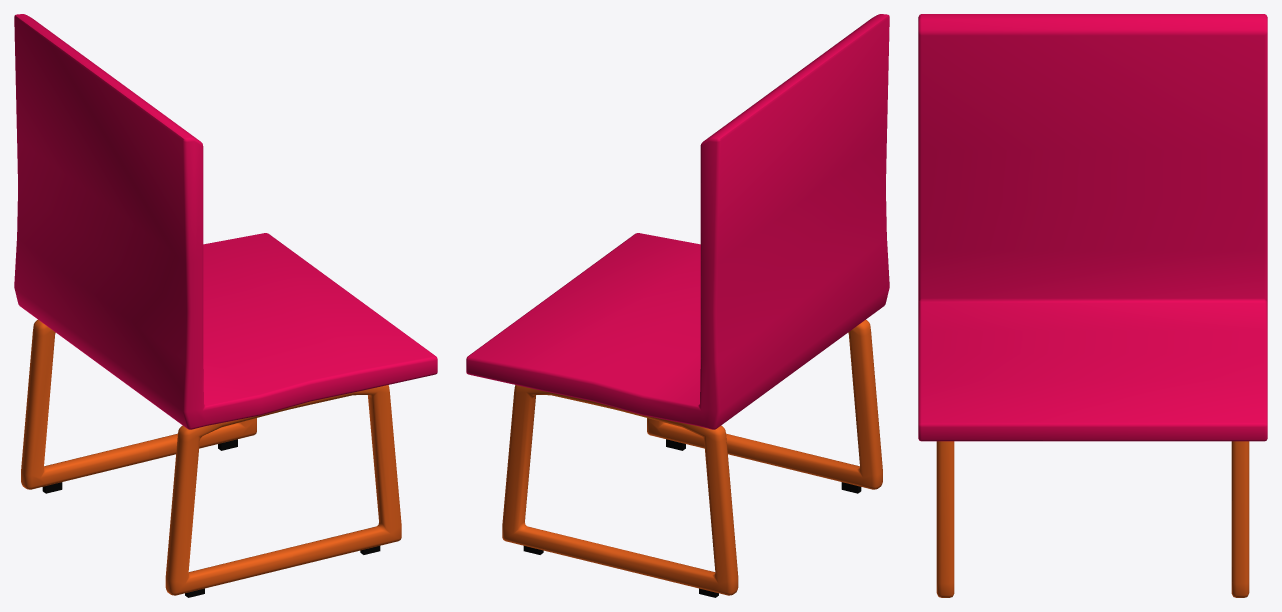
File: SM_chaise_02.fbx
The picture shows the model from 3 angles, left to right: view 1: azimuth 30°, elevation 25°; view 2: azimuth 150°, elevation 25°; view 3: azimuth 270°, elevation 25°; orthographic projection.
Parts seen in each view (by area): view 1: Cube.026, Cube.027, Cube.028; view 2: Cube.026, Cube.027, Cube.028; view 3: Cube.026, Cube.027.
Boxes of the visible parts, left/top/right/bottom form: Cube.026: left=14, top=14, right=437, bottom=429; Cube.027: left=21, top=320, right=401, bottom=595; Cube.028: left=42, top=439, right=380, bottom=597; Cube.026: left=466, top=14, right=889, bottom=429; Cube.027: left=502, top=320, right=882, bottom=595; Cube.028: left=523, top=439, right=861, bottom=597; Cube.026: left=918, top=14, right=1267, bottom=441; Cube.027: left=936, top=441, right=1249, bottom=597.
Size of the model in its own units: 71.25 by 125 by 82.23.
